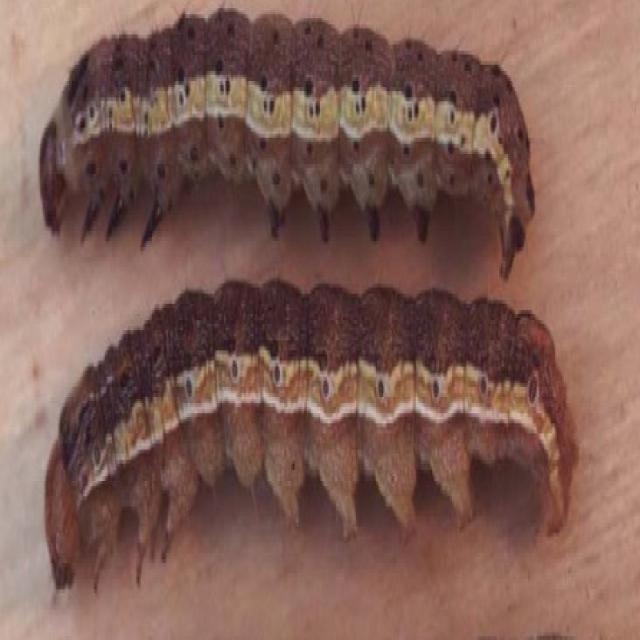Corn-earworm: (50, 286, 589, 640), (39, 4, 533, 272)
